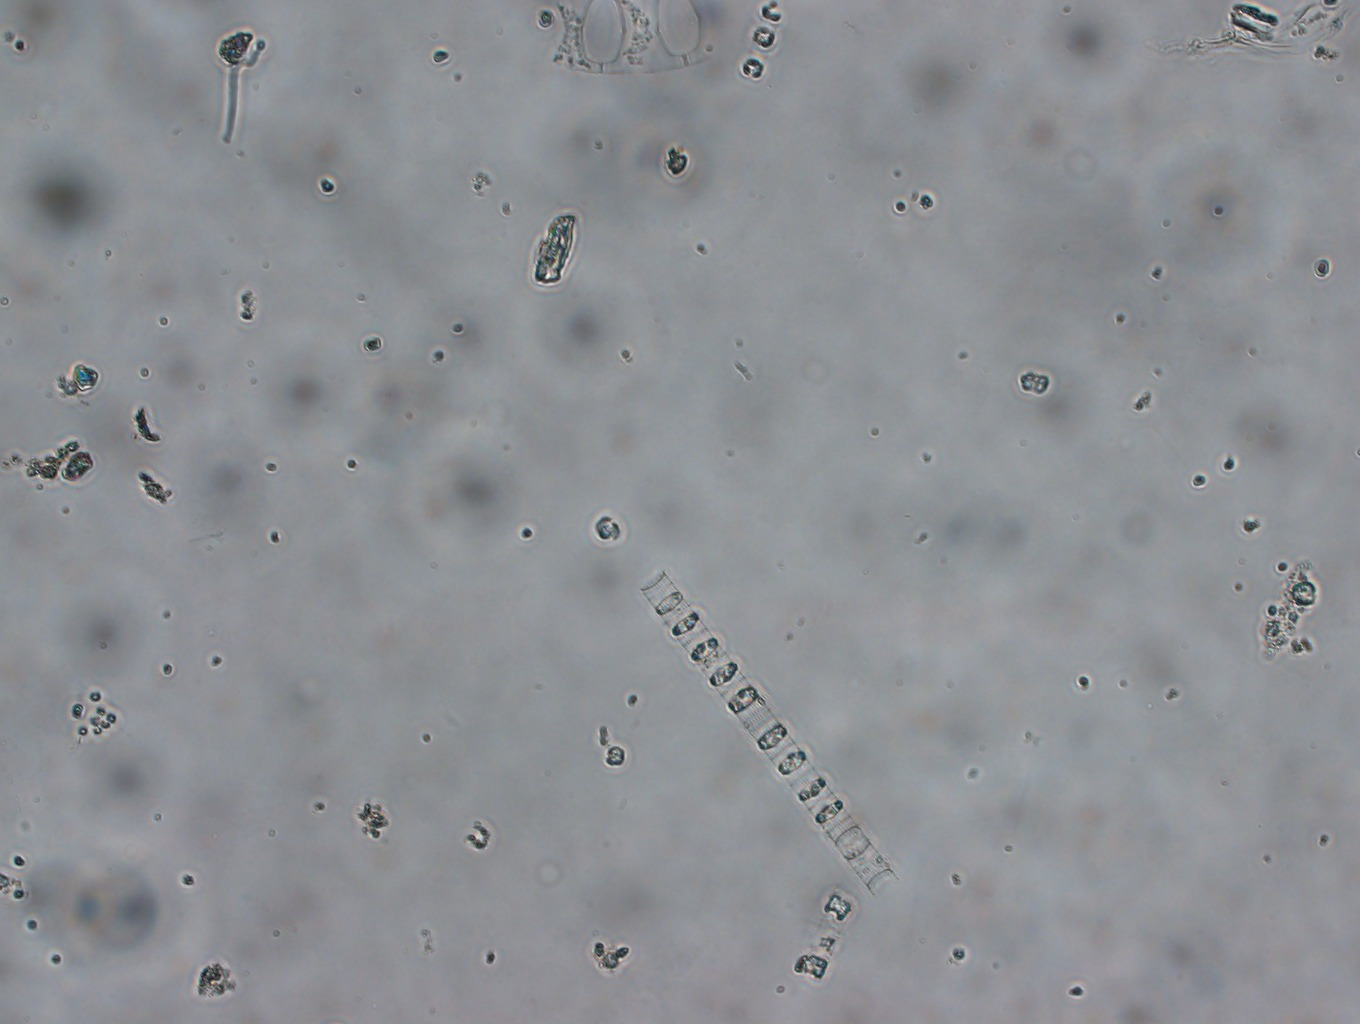skeletonema: (633, 560, 899, 890)
